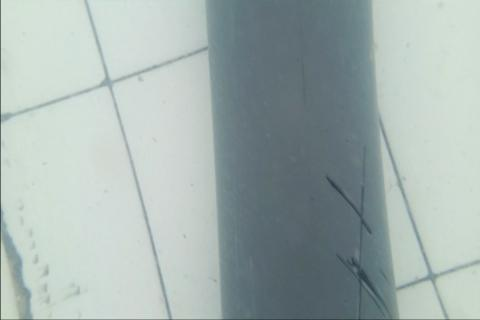keretakan: (323, 145, 392, 320)
